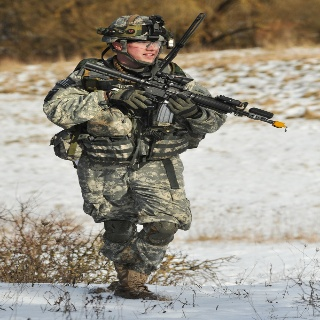rifle: (83, 59, 288, 133)
